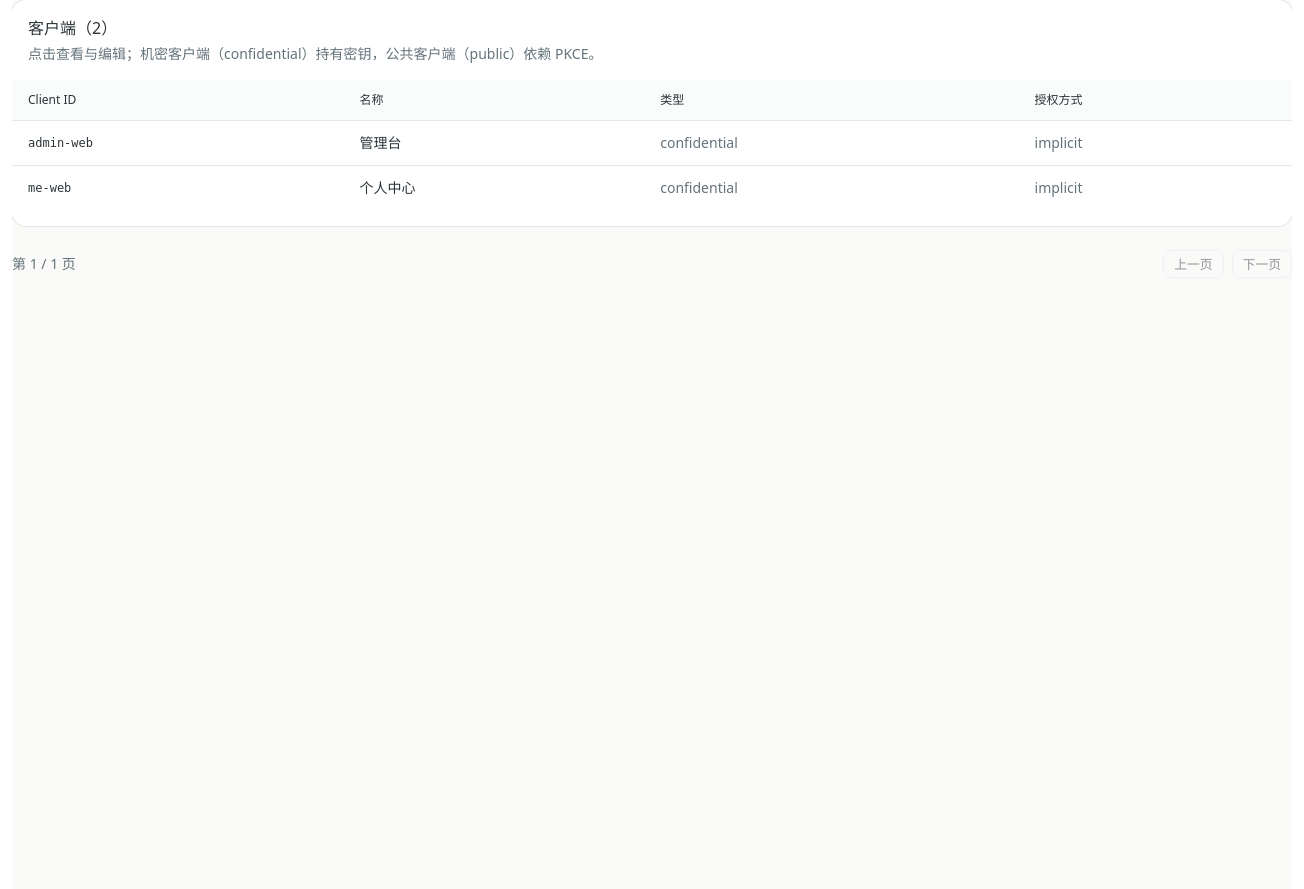
ClientsPage list errors › surfaces options load failures inside the permissions card once a client is selected
This screenshot has width=1304, height=889.
Click the text "me-web": (50, 188) [12,166,344,210]
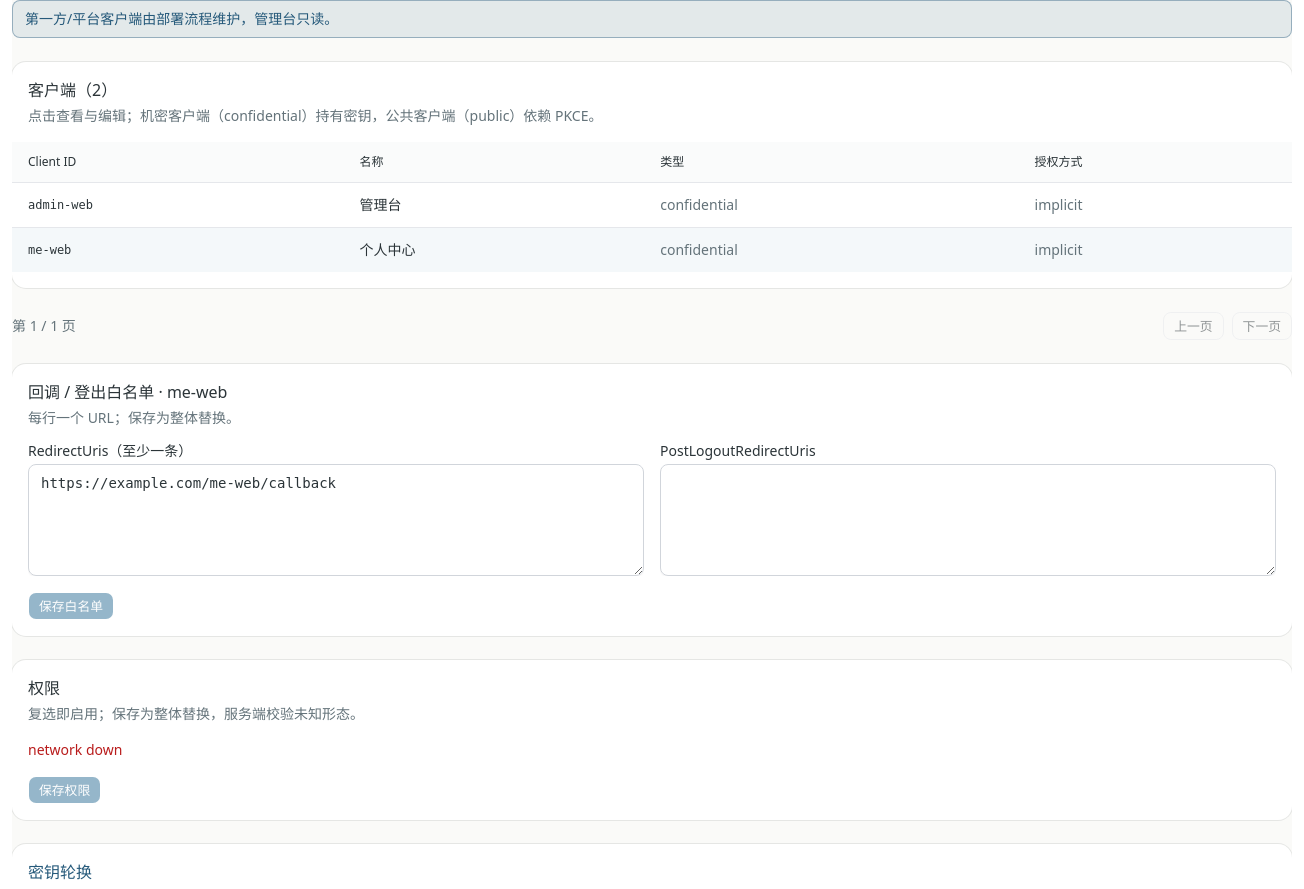
Expected: the text "network down" is shown, [28,740,122,759]
